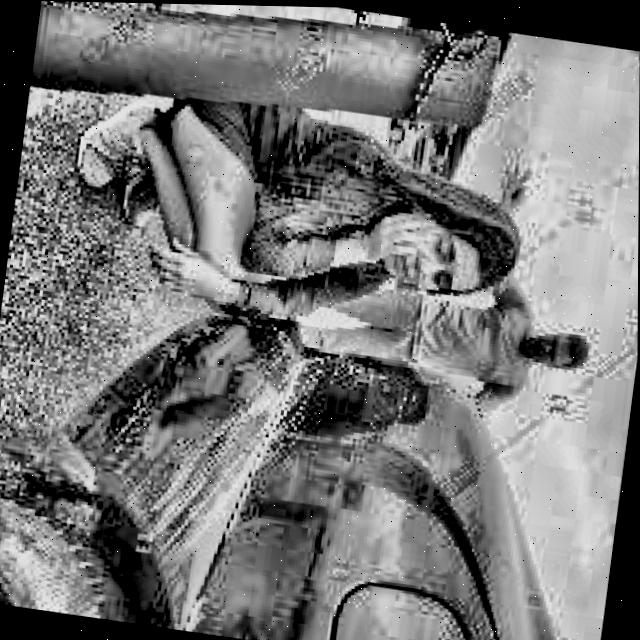bumper_scratch: (140, 335, 316, 575)
